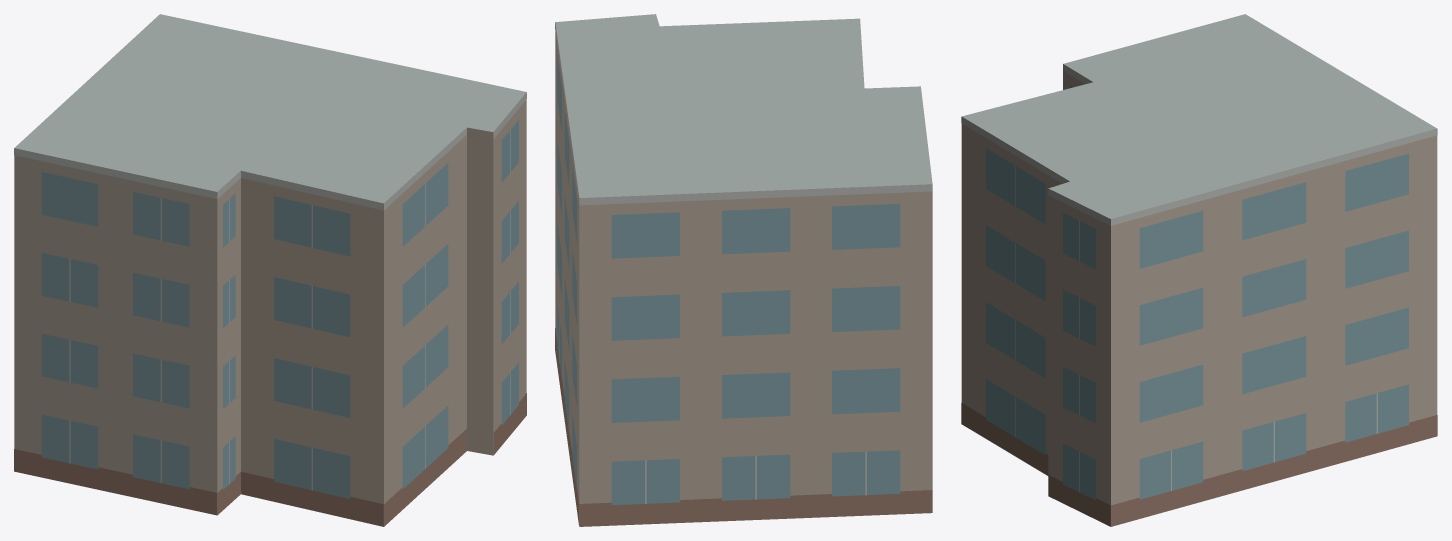
Rendered from survey-upis-32583225.glb.
3 views of the same model, side by side, from view 1: azimuth 30°, elevation 25°; view 2: azimuth 150°, elevation 25°; view 3: azimuth 270°, elevation 25° (orthographic). The views are drawn at different scales.
Visible parts, largest first — view 1: survey-upis-32583225.tmp; view 2: survey-upis-32583225.tmp; view 3: survey-upis-32583225.tmp.
Boxes of the visible parts, x1,y1,x2,y2 form: survey-upis-32583225.tmp: (14,14,526,526); survey-upis-32583225.tmp: (555,14,932,526); survey-upis-32583225.tmp: (961,14,1437,526).
Bounding box in the file's own units: 15.88 × 11.1 × 15.57.
